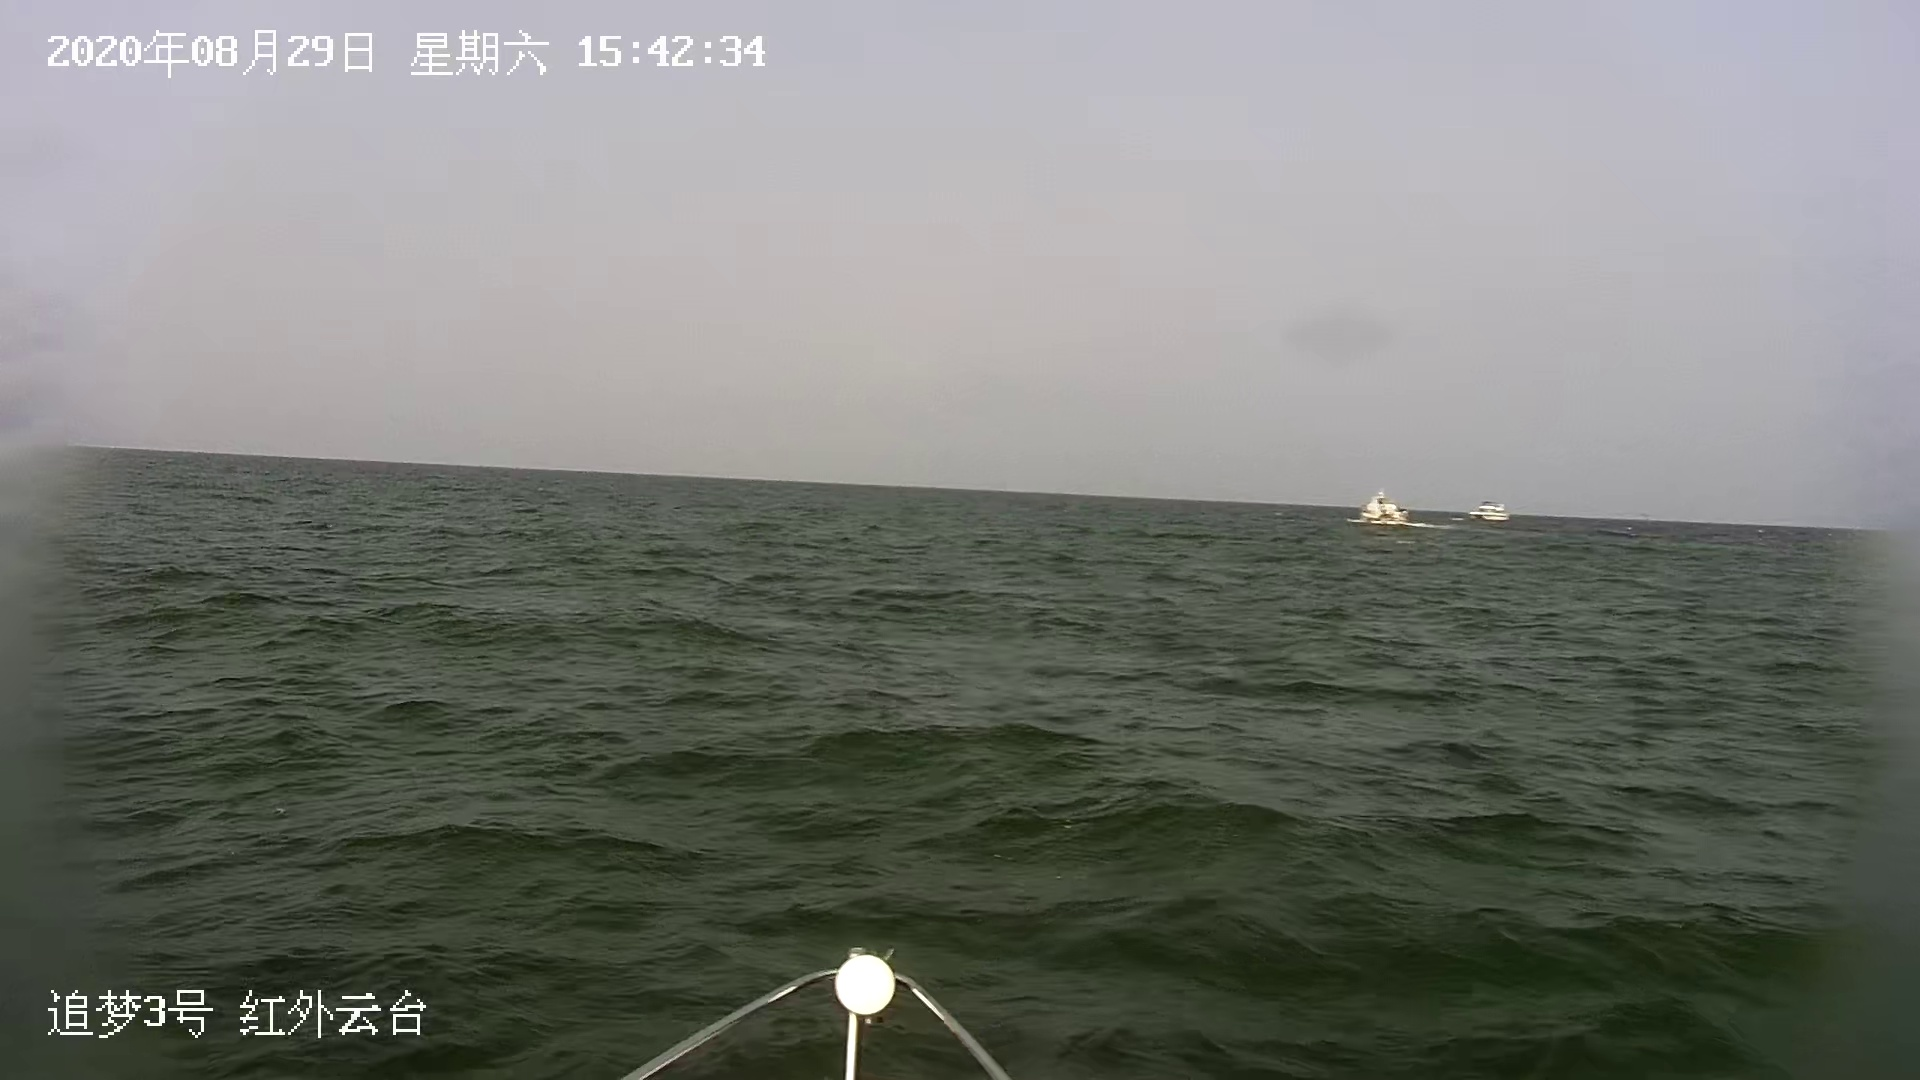barrier: (1346, 488, 1420, 527), (1466, 496, 1513, 531)
